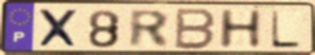8: (87, 9, 122, 49)
B: (172, 7, 218, 52)
H: (217, 8, 265, 51)
L: (268, 10, 303, 50)
R: (128, 9, 172, 50)
X: (36, 8, 81, 49)
